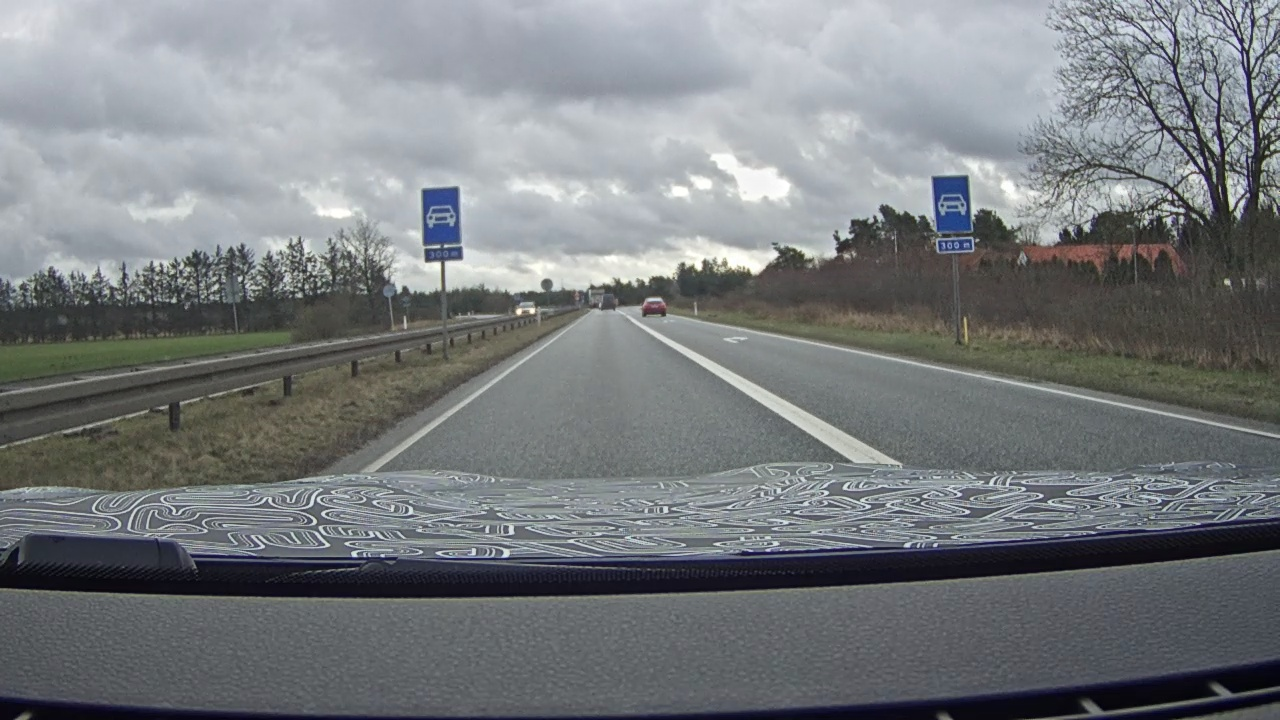Expressway_Begin: (420, 186, 463, 247), (931, 174, 973, 235)
